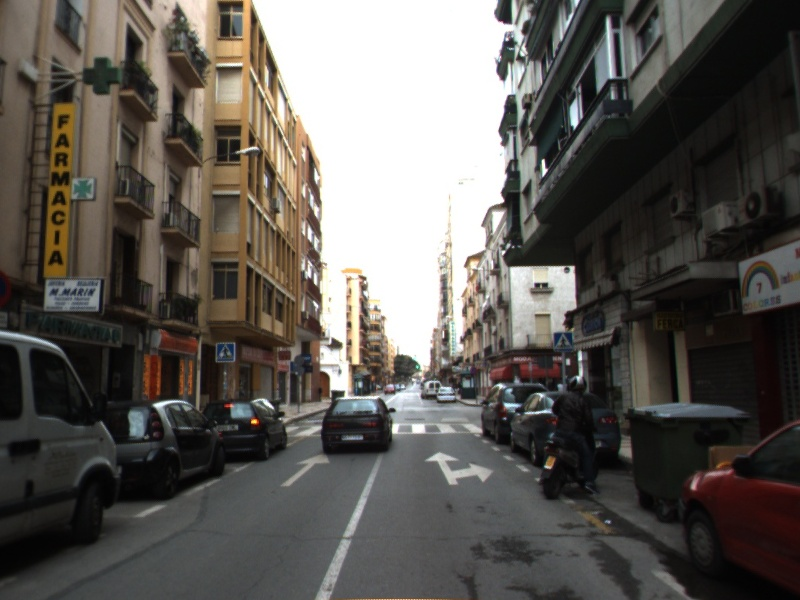STRAIGHT: (279, 451, 332, 488)
STRAIGHT_RIGHT: (423, 450, 495, 487)
